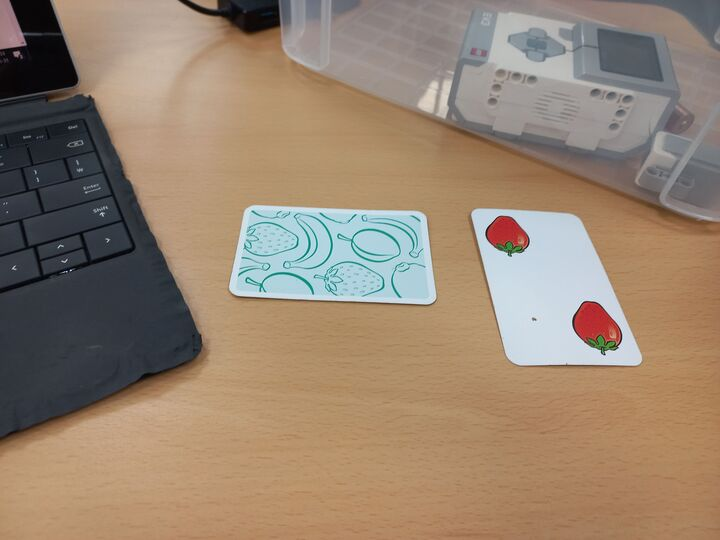strawberry2: (468, 204, 646, 370)
